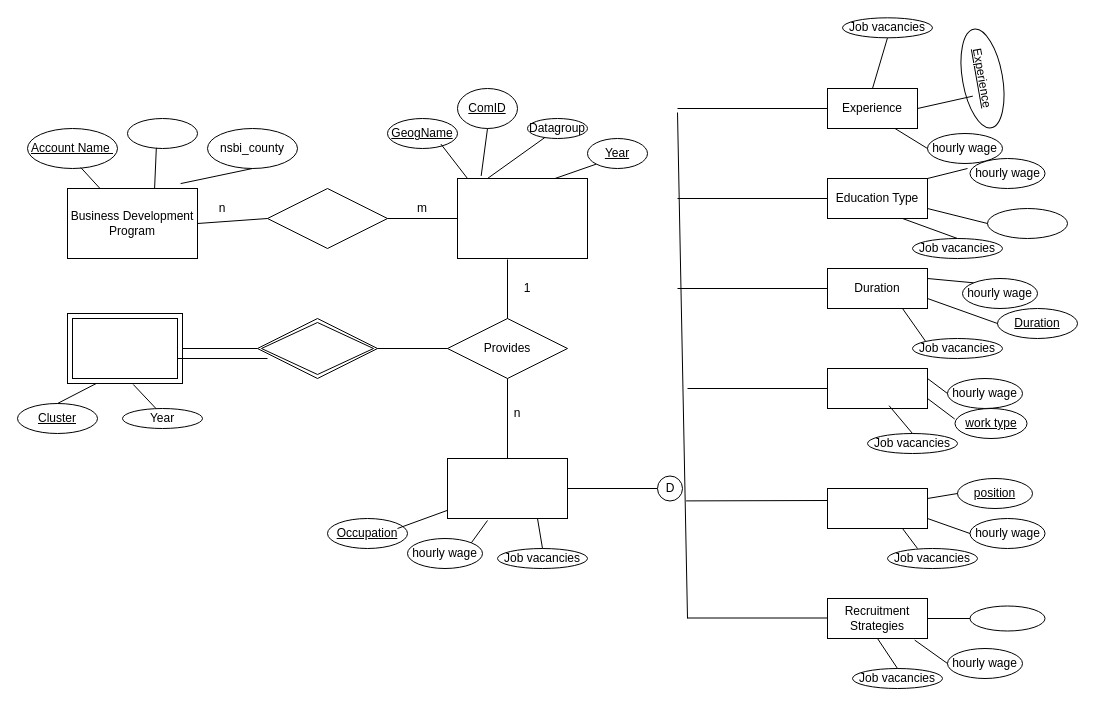
Image size: 1095x706. Some labels were removed from this diagram. The shapes that lost their labels are listed below. From the top down, each one's centre as x and y in pixels, then its label:
pixel 162 133: nsbi_sector
pixel 327 218: Supports
pixel 522 218: Business Establishments
pixel 1027 223: Education
pixel 124 348: Business job reports
pixel 317 348: Results
pixel 877 388: Work types
pixel 507 488: Jobs
pixel 877 508: Position types
pixel 1007 618: Recruitment
